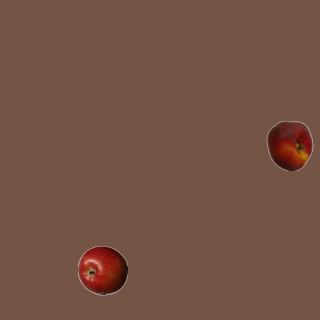Apple Braeburn: (77, 245, 127, 295)
Nectarine Flat: (264, 120, 314, 170)
